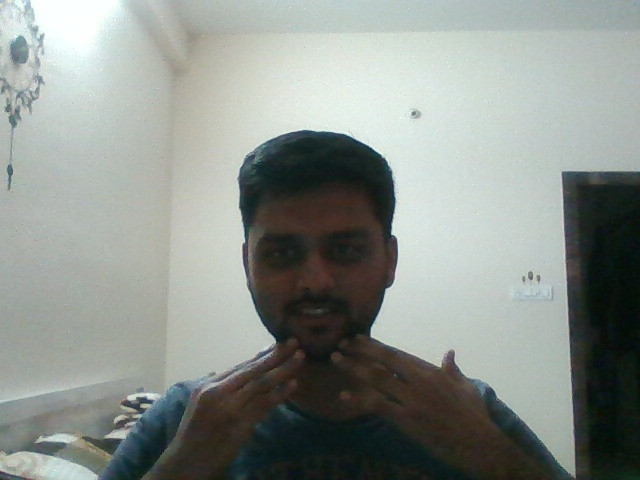thanks: (135, 316, 553, 469)
